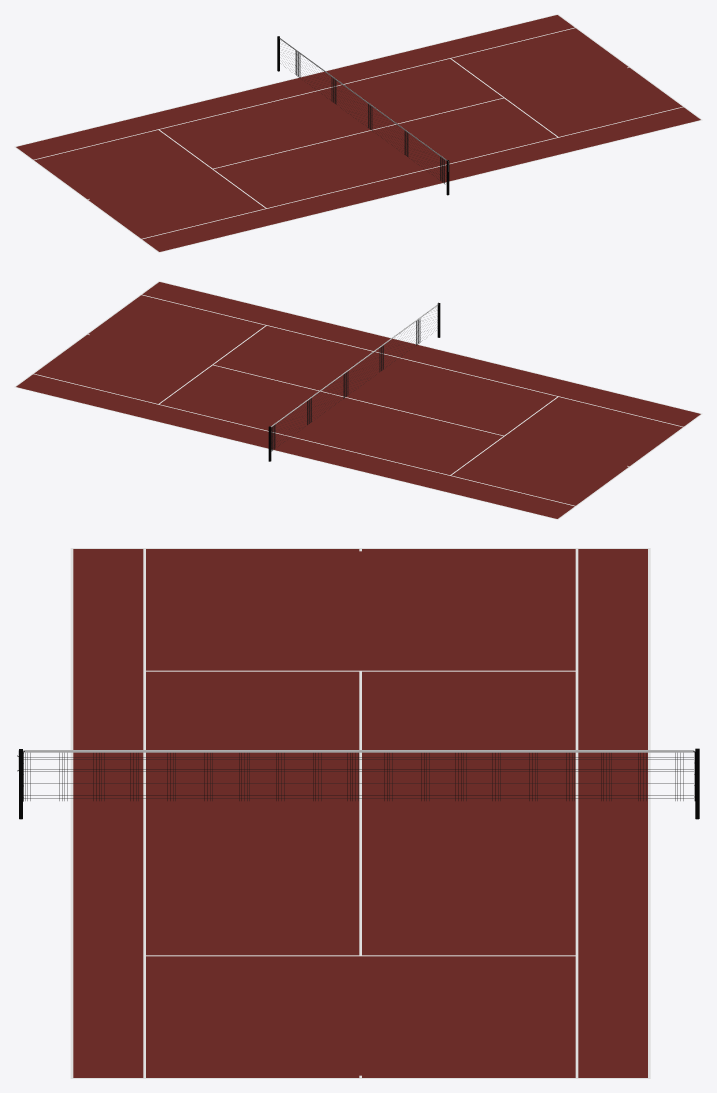
Rendered from net.fbx.
The picture shows the model from 3 angles, top to bottom: view 1: azimuth 30°, elevation 25°; view 2: azimuth 150°, elevation 25°; view 3: azimuth 270°, elevation 25°; orthographic projection. The views are drawn at different scales.
Parts seen in each view (by area): view 1: play, line marking, Layer:0.001; view 2: play, line marking, Layer:0.001; view 3: play, line marking, Layer:0.001, Layer:0.
Part boxes in pixels (bbox=[...]): play: bbox=[16, 15, 700, 251]; line marking: bbox=[14, 14, 702, 252]; Layer:0.001: bbox=[280, 45, 445, 184]; play: bbox=[16, 282, 700, 518]; line marking: bbox=[14, 281, 702, 519]; Layer:0.001: bbox=[271, 312, 437, 451]; play: bbox=[73, 549, 647, 1077]; line marking: bbox=[70, 548, 650, 1078]; Layer:0.001: bbox=[24, 753, 693, 800]; Layer:0: bbox=[18, 750, 694, 771].
Size of the model in its own units: 2377 by 144 by 1291.
